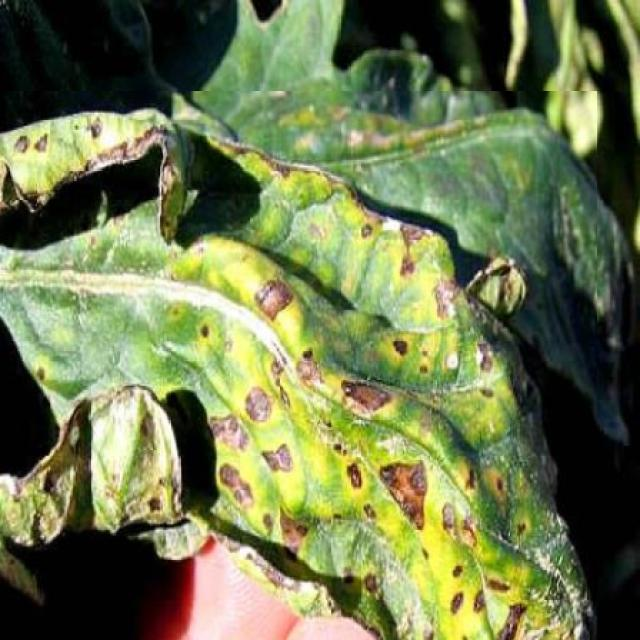Septoria: (0, 90, 597, 640)
